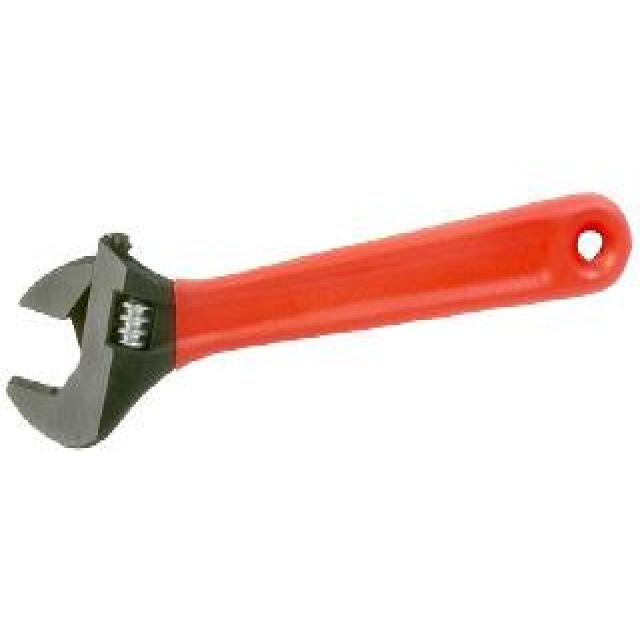wrench: (7, 207, 640, 480)
